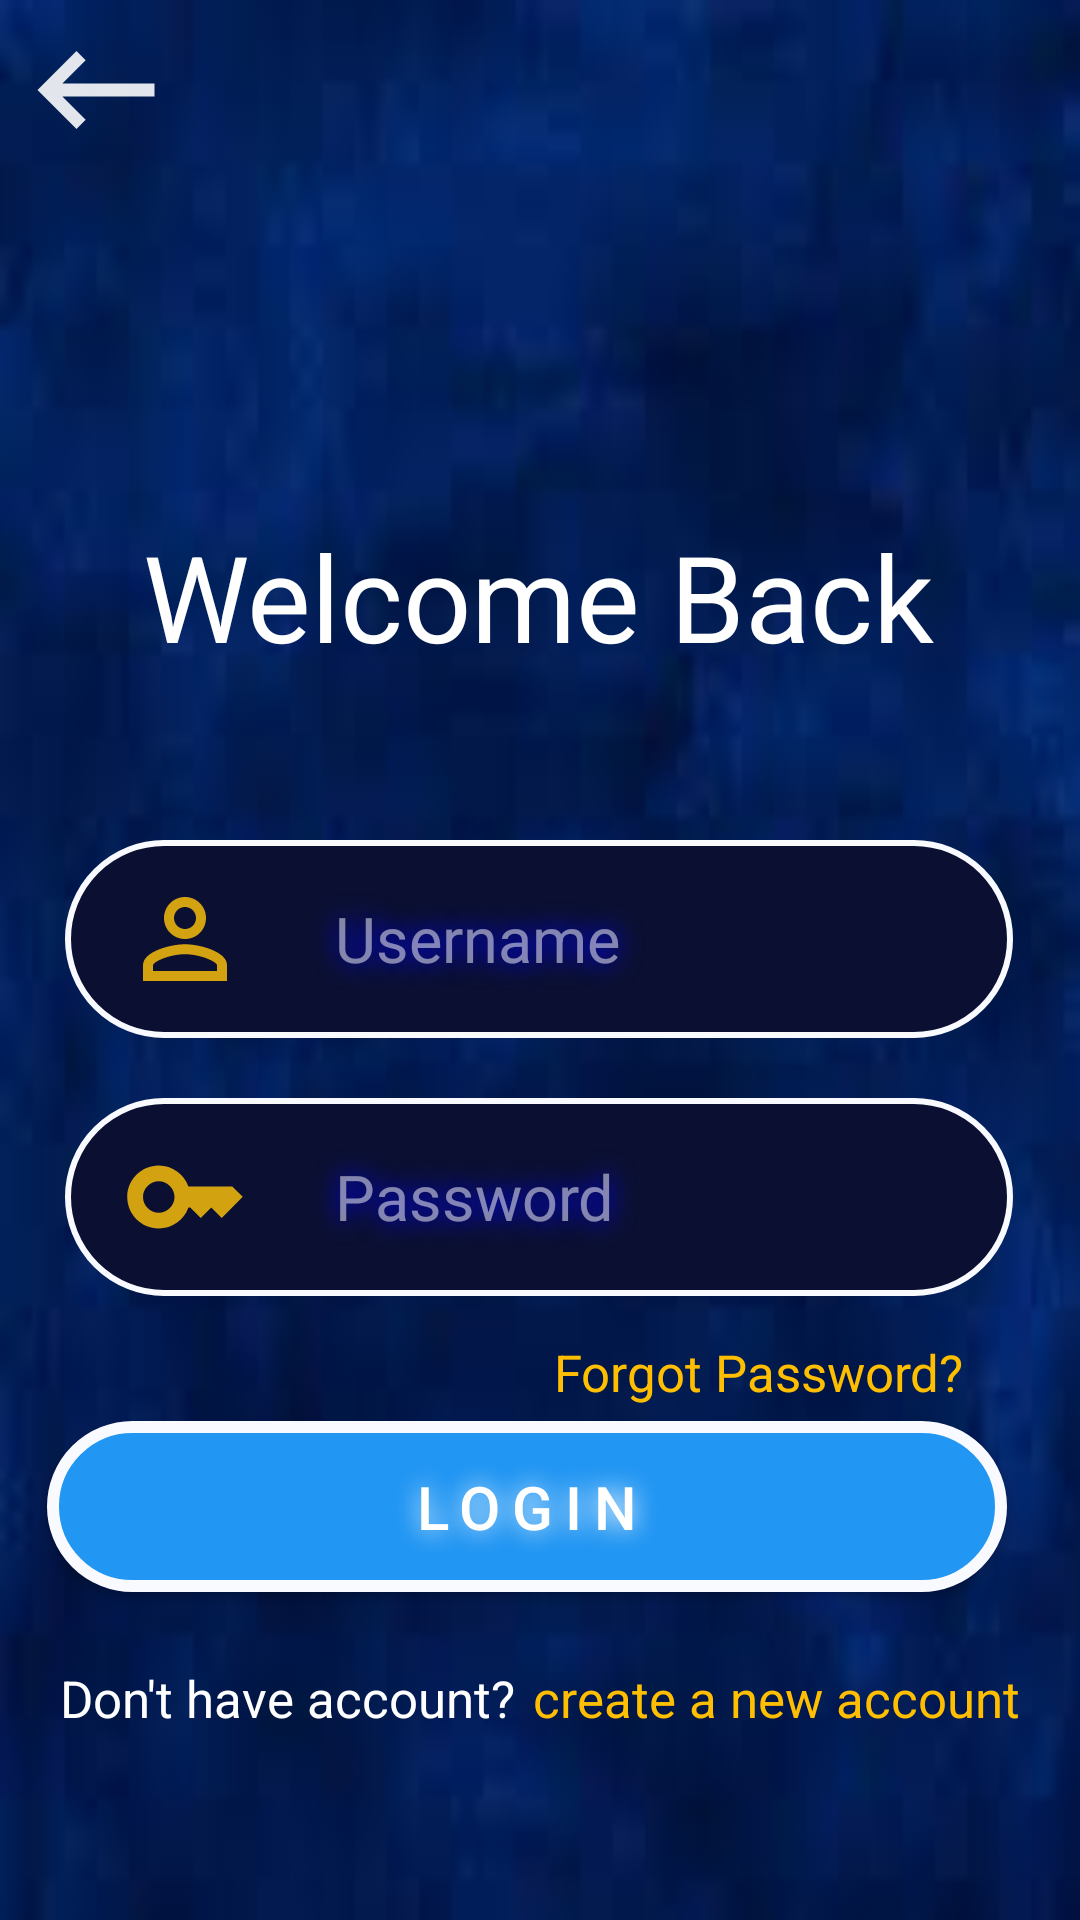

Locate icon controls on the screen. Image size 1080px x 1920px, boxes as (x1, y1, x2, y2).
keyboard backspace: (37, 51, 155, 129)
person: (143, 897, 227, 981)
